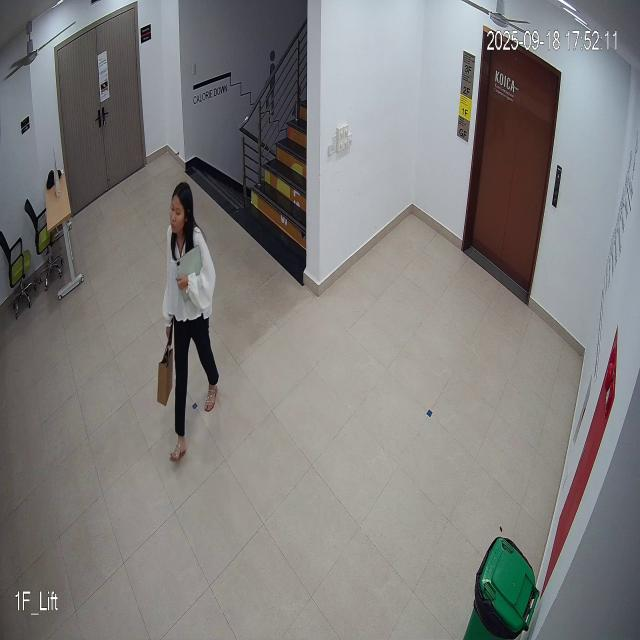face: (168, 175, 192, 240)
